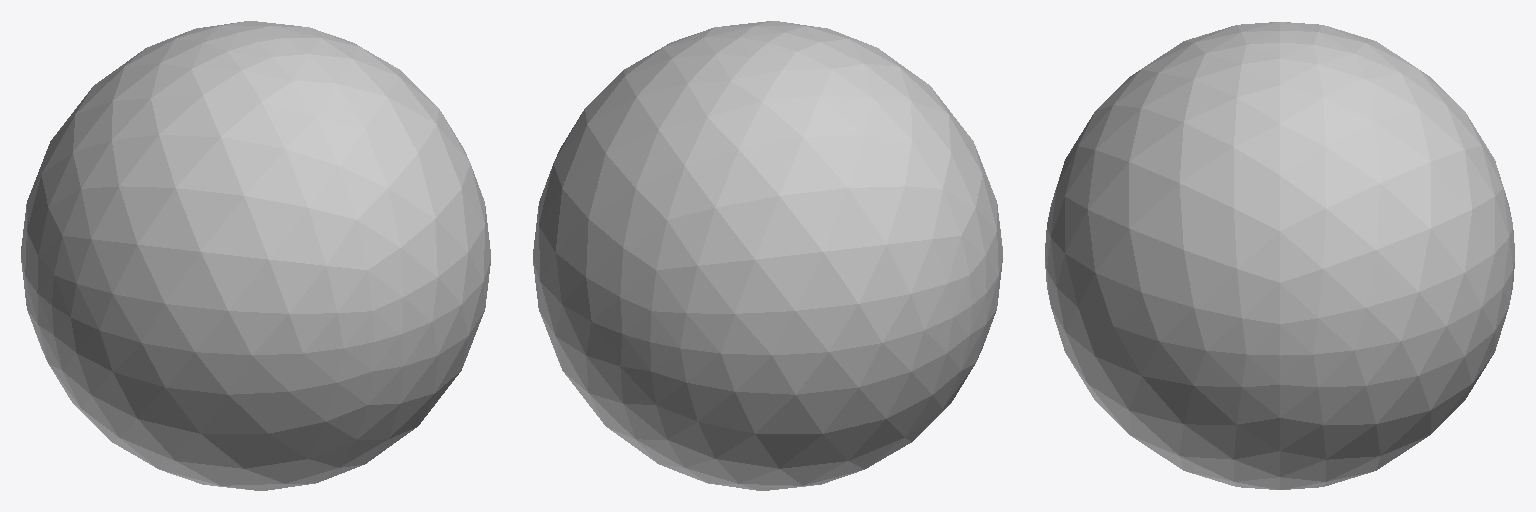
File: balls.obj
3 renders of one model, left to right at view 1: azimuth 30°, elevation 25°; view 2: azimuth 150°, elevation 25°; view 3: azimuth 270°, elevation 25°, orthographic.
Parts seen in each view (by area): view 1: Form0; view 2: Form0; view 3: Form0.
Part boxes in pixels (x1,y1,x2,y2): Form0: (21, 21, 490, 490); Form0: (533, 21, 1002, 490); Form0: (1045, 22, 1514, 489).
Size of the model in its own units: 0.01 by 0.01 by 0.01.